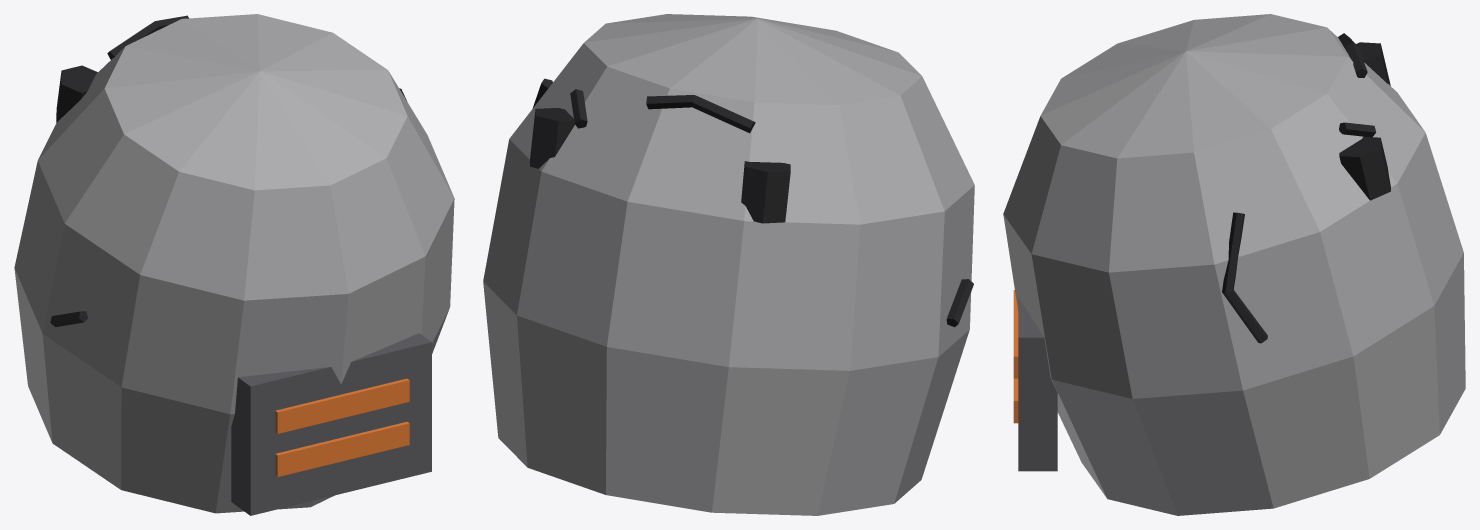
The model's file is vge_damaged_escape_pod.obj.
The picture shows the model from 3 angles, left to right: view 1: azimuth 30°, elevation 25°; view 2: azimuth 150°, elevation 25°; view 3: azimuth 270°, elevation 25°; orthographic projection. The views are drawn at different scales.
Visible parts, largest first — view 1: vge_damaged_escape_pod_0, vge_damaged_escape_pod_1, vge_damaged_escape_pod_3, vge_damaged_escape_pod_2, vge_damaged_escape_pod_9, vge_damaged_escape_pod_4; view 2: vge_damaged_escape_pod_0, vge_damaged_escape_pod_9, vge_damaged_escape_pod_8, vge_damaged_escape_pod_4, vge_damaged_escape_pod_7; view 3: vge_damaged_escape_pod_0, vge_damaged_escape_pod_1, vge_damaged_escape_pod_8, vge_damaged_escape_pod_6, vge_damaged_escape_pod_9, vge_damaged_escape_pod_4.
Boxes of the visible parts, x1,y1,x2,y2 form: vge_damaged_escape_pod_0: [14, 14, 454, 513]; vge_damaged_escape_pod_1: [231, 333, 431, 515]; vge_damaged_escape_pod_3: [275, 378, 409, 433]; vge_damaged_escape_pod_2: [275, 422, 409, 476]; vge_damaged_escape_pod_9: [56, 65, 97, 122]; vge_damaged_escape_pod_4: [107, 15, 188, 59]; vge_damaged_escape_pod_0: [483, 14, 974, 515]; vge_damaged_escape_pod_9: [741, 161, 790, 223]; vge_damaged_escape_pod_8: [530, 108, 574, 168]; vge_damaged_escape_pod_4: [646, 95, 755, 133]; vge_damaged_escape_pod_7: [946, 279, 973, 327]; vge_damaged_escape_pod_0: [1003, 14, 1465, 515]; vge_damaged_escape_pod_1: [1018, 297, 1057, 471]; vge_damaged_escape_pod_8: [1339, 136, 1390, 200]; vge_damaged_escape_pod_6: [1222, 212, 1267, 343]; vge_damaged_escape_pod_9: [1356, 42, 1390, 85]; vge_damaged_escape_pod_4: [1338, 33, 1367, 77].
Bounding box in the file's own units: 0.939 × 0.9244 × 0.9423.
